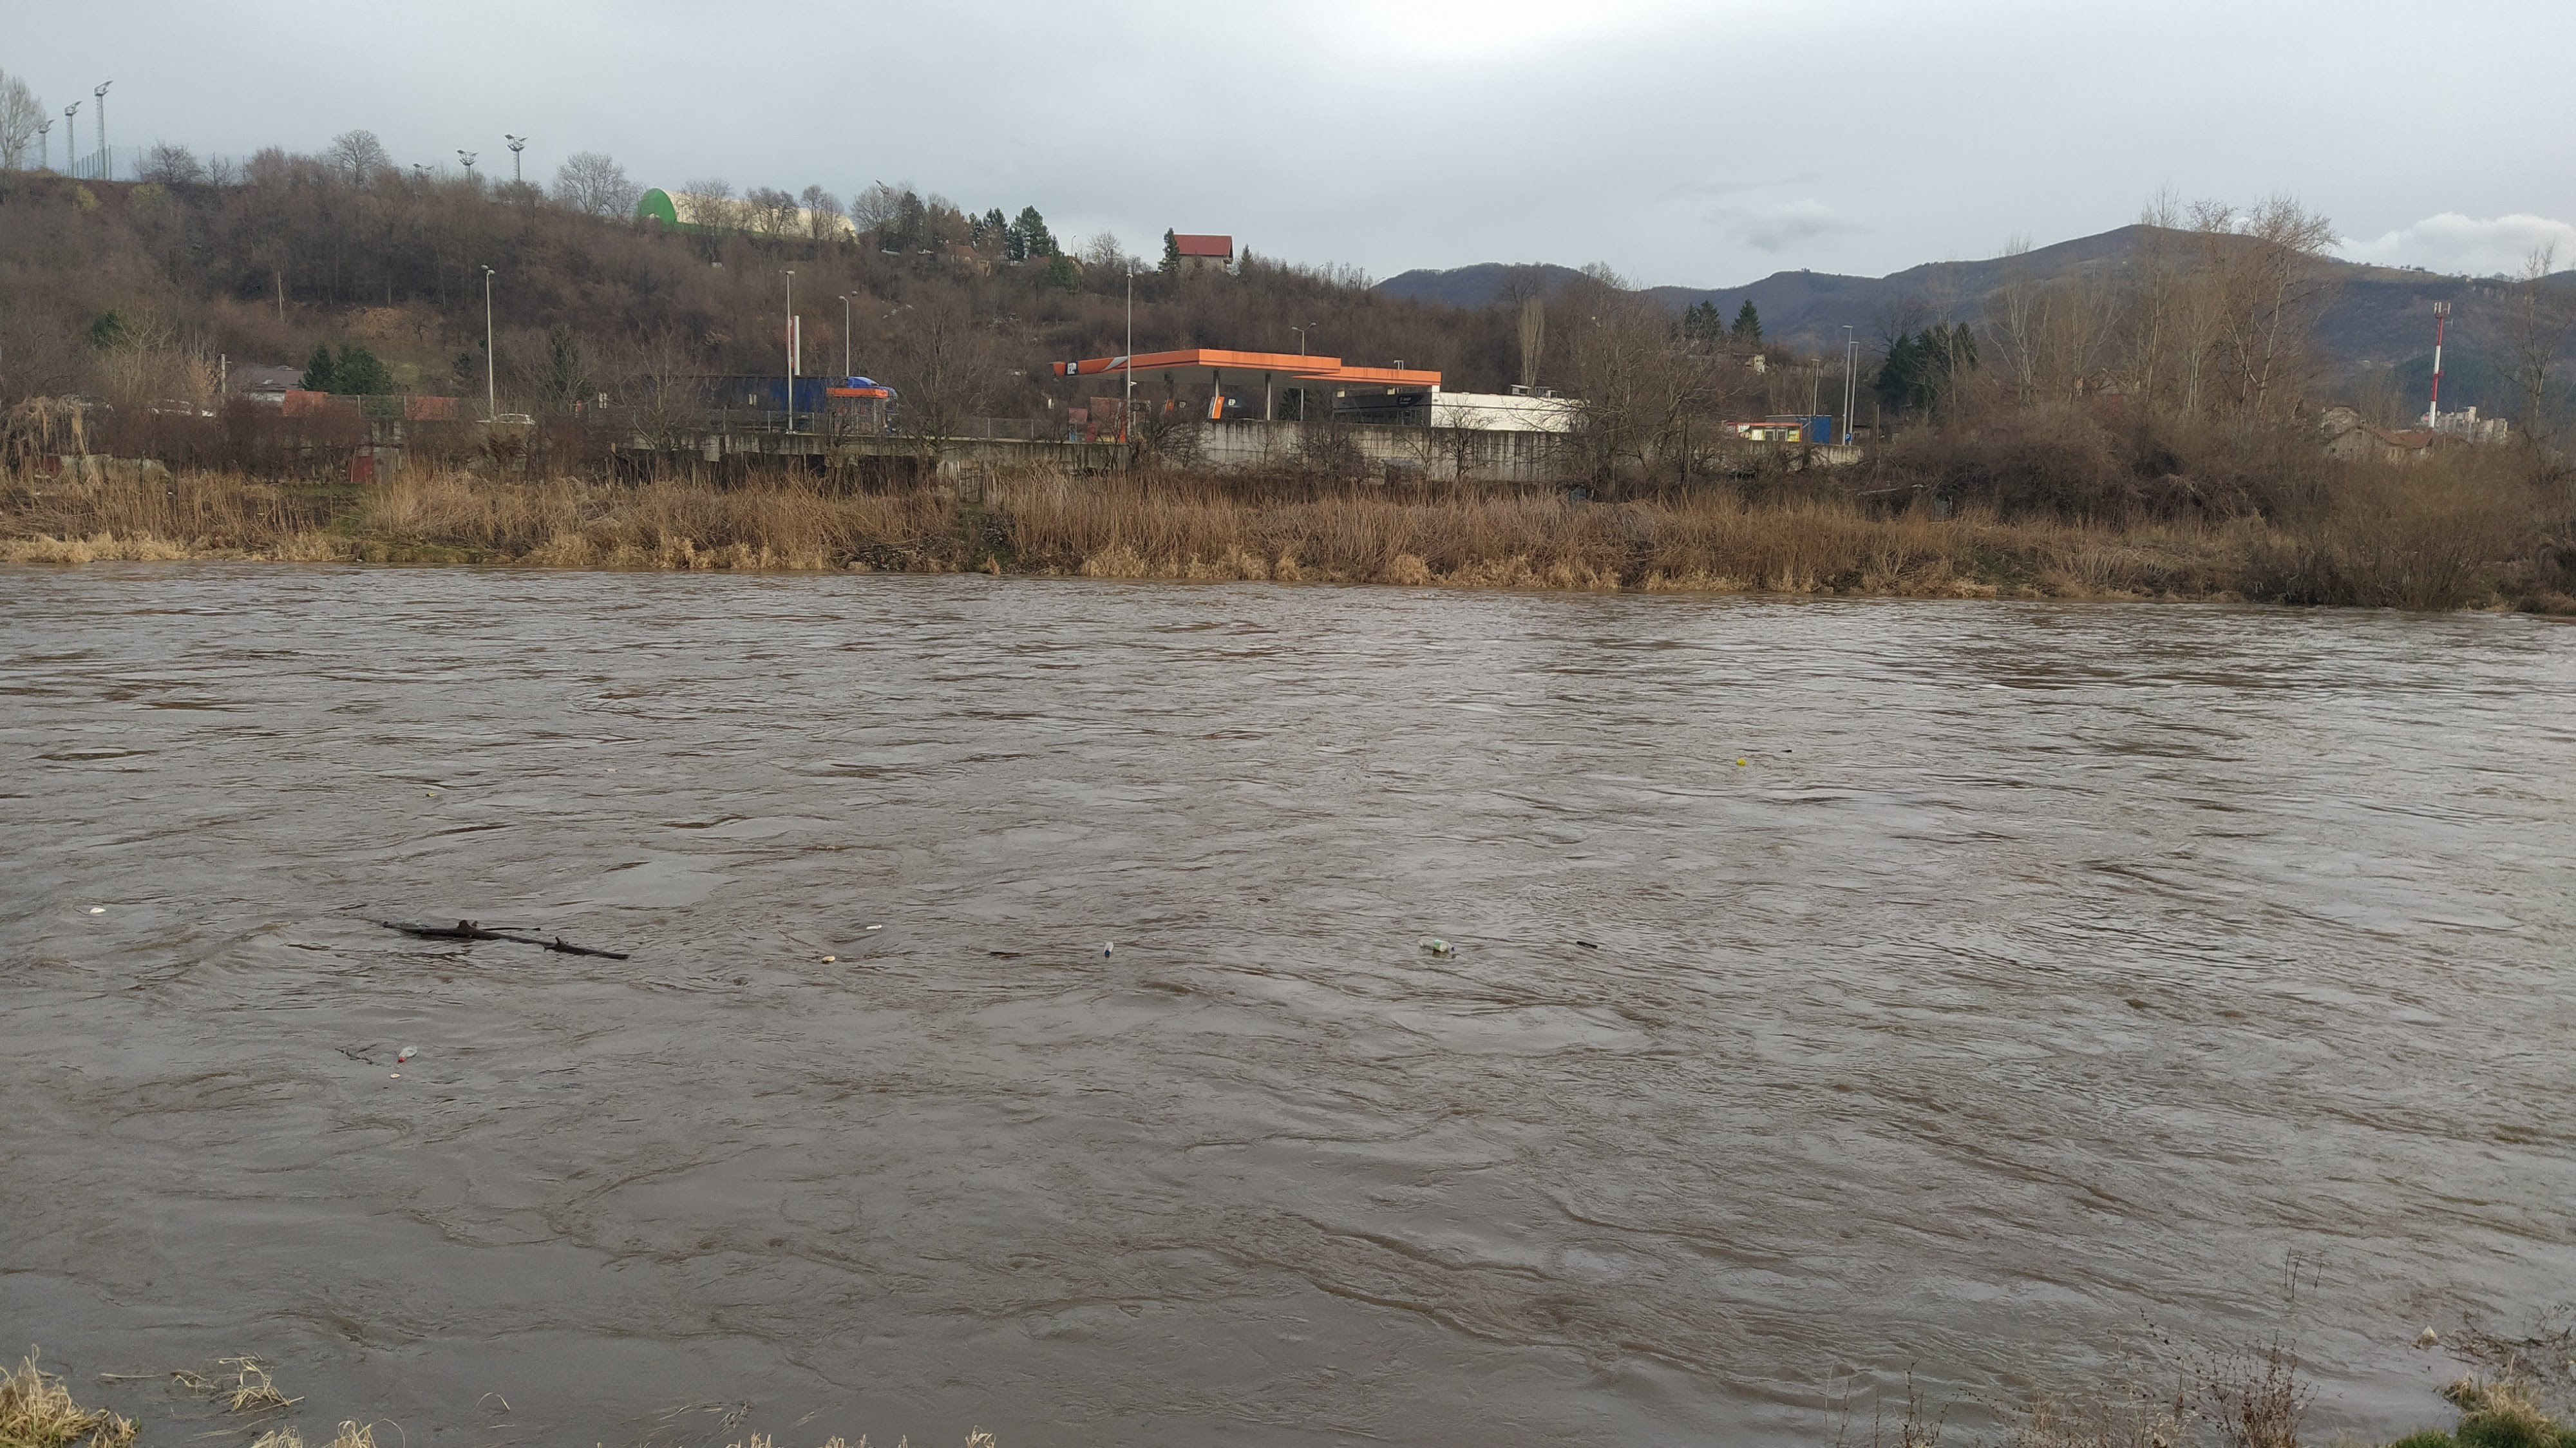Plastic Bottle: (1417, 935, 1454, 952), (398, 1044, 418, 1062), (2424, 1324, 2438, 1342), (1104, 940, 1113, 956), (865, 924, 881, 929), (1736, 758, 1744, 765), (607, 768, 617, 772)
